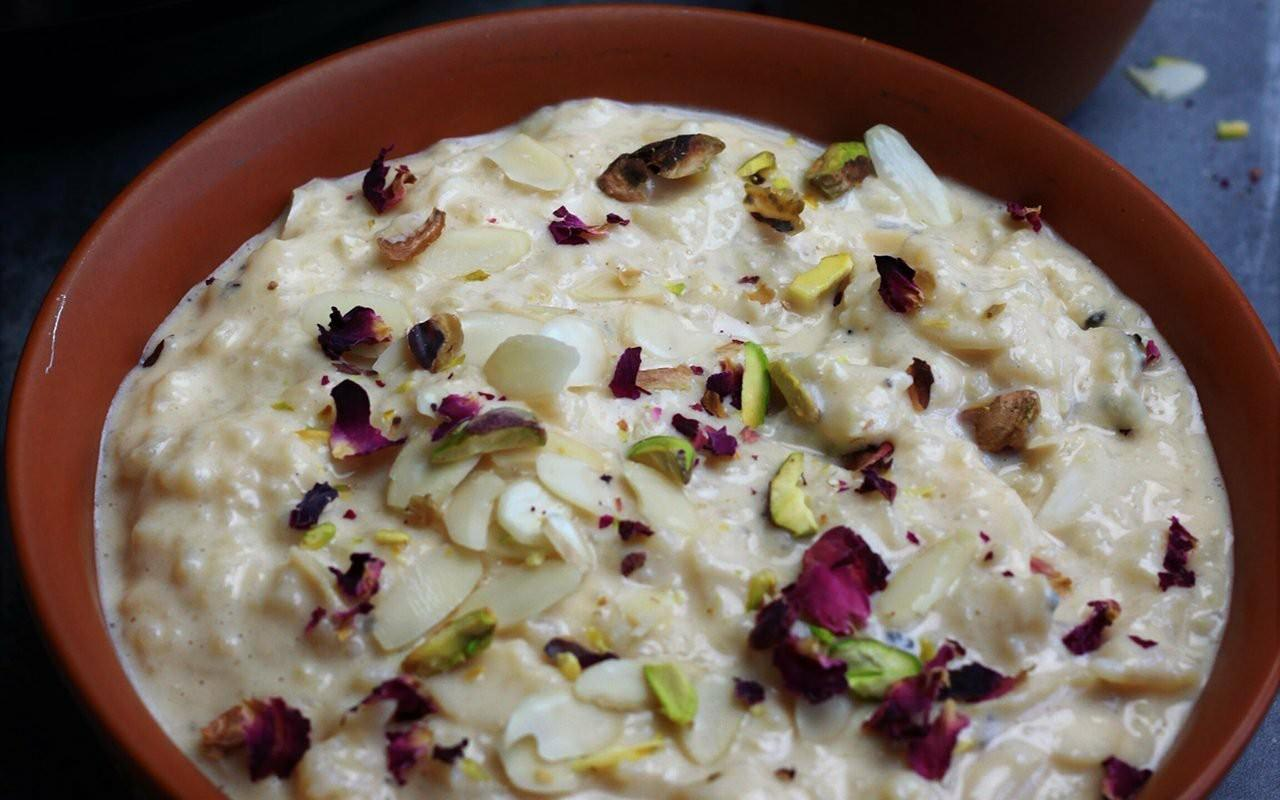Kheer: (94, 100, 1234, 799)
